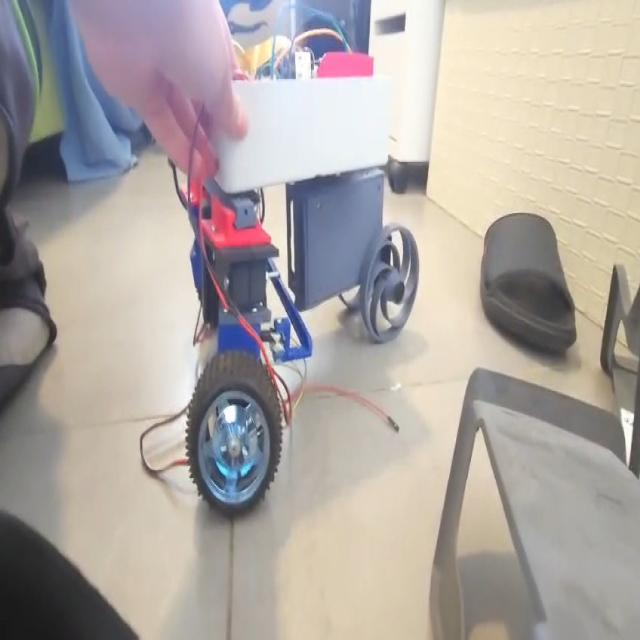Robot: (177, 41, 420, 516)
